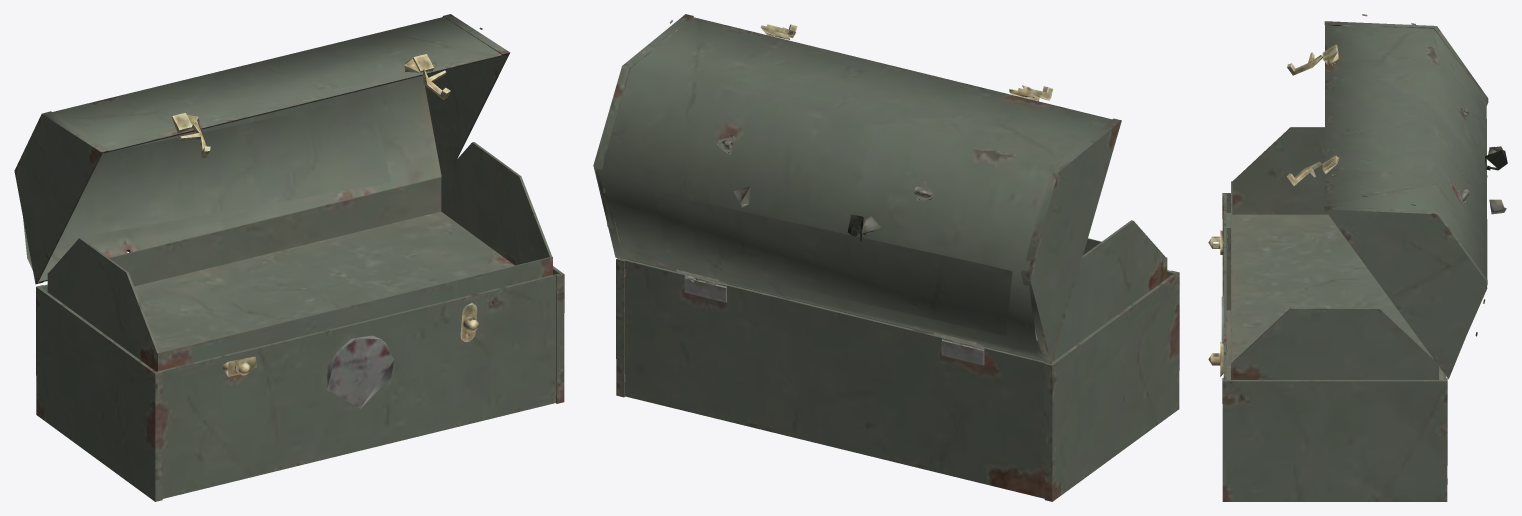
File: metal_toolbox.glb
The picture shows the model from 3 angles, left to right: view 1: azimuth 30°, elevation 25°; view 2: azimuth 150°, elevation 25°; view 3: azimuth 270°, elevation 25°; orthographic projection. The views are drawn at different scales.
Visible parts, largest first — view 1: metal_toolbox; view 2: metal_toolbox; view 3: metal_toolbox.
Boxes of the visible parts, <box> form: metal_toolbox: <box>14,14,564,501</box>; metal_toolbox: <box>593,14,1179,501</box>; metal_toolbox: <box>1208,14,1507,501</box>.
Bounding box in the file's own units: 0.4 × 0.3019 × 0.2687.
Materials: 1 (1 with a texture image).
